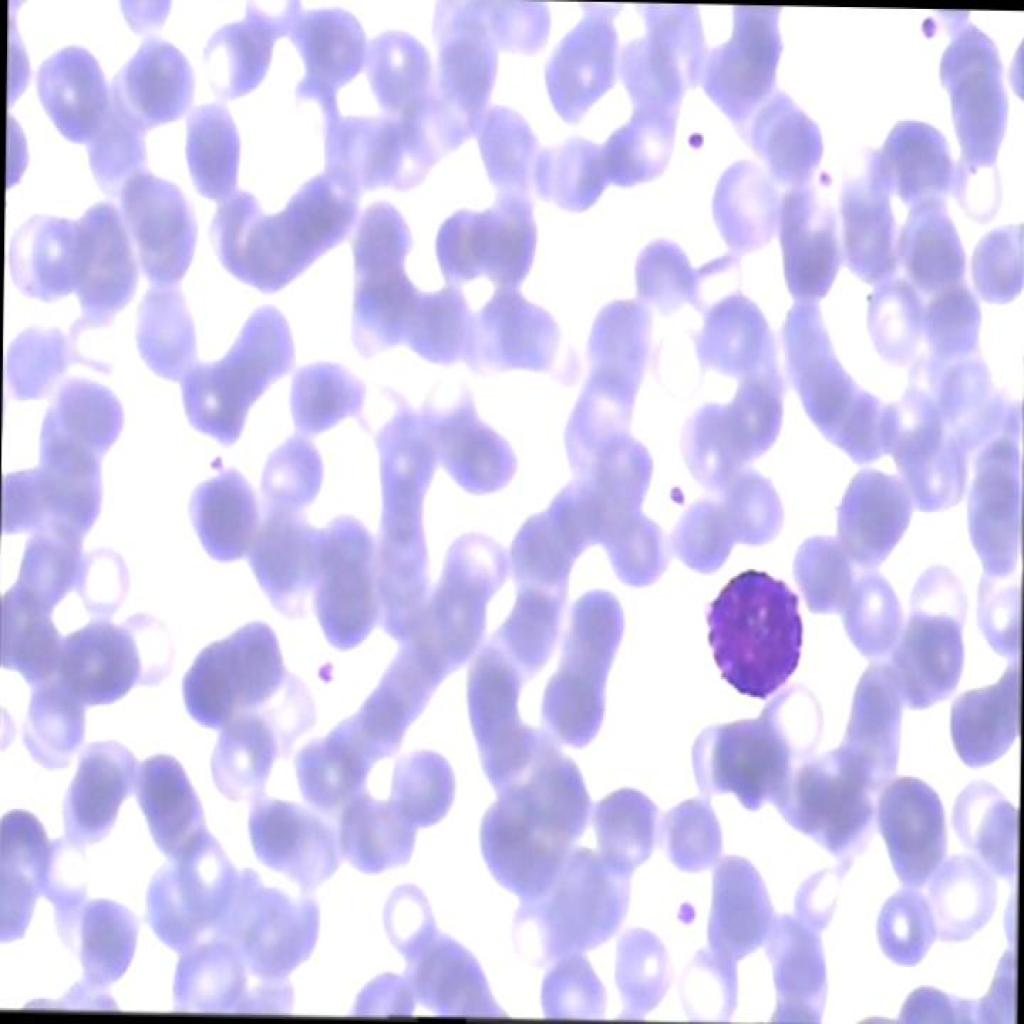Basofil: (697, 562, 818, 716)
Platelet: (654, 466, 693, 521), (663, 878, 698, 928), (676, 108, 708, 158), (815, 158, 845, 198), (202, 442, 229, 482), (314, 644, 338, 682), (918, 11, 942, 48)
